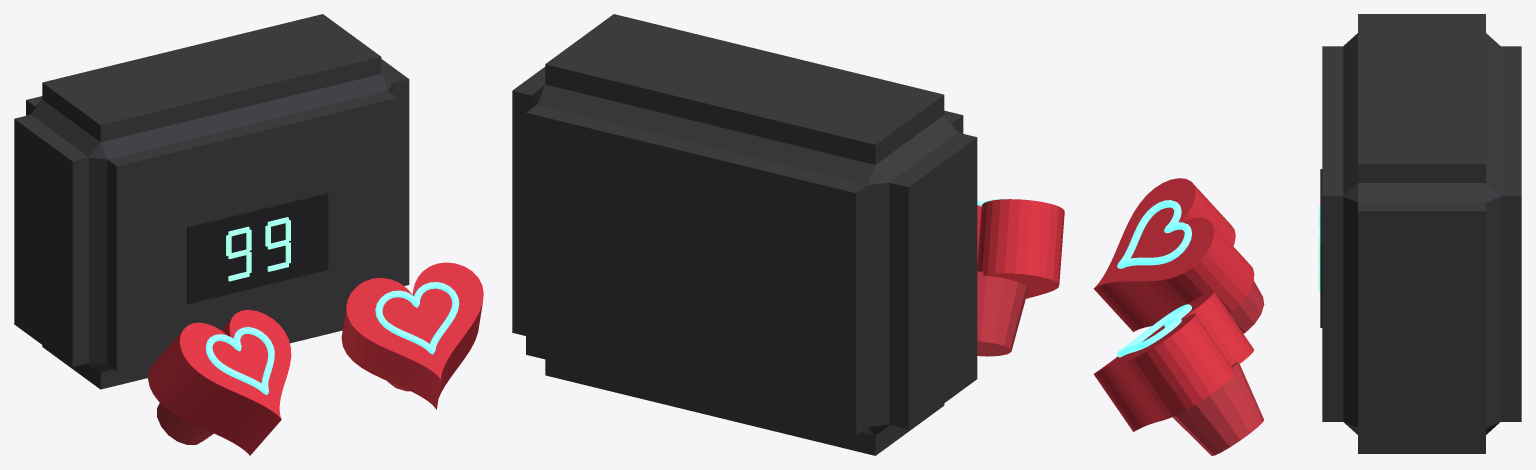
Rendered from HeartEarbudsRed.glb.
3 renders of one model, left to right at view 1: azimuth 30°, elevation 25°; view 2: azimuth 150°, elevation 25°; view 3: azimuth 270°, elevation 25°, orthographic. The views are drawn at different scales.
Parts seen in each view (by area): view 1: CaseBody, Earbud_L_Shell, Earbud_R_Shell, CaseScreen, Earbud_R_Ring, Earbud_L_Ring, Earbud_L_Tip; view 2: CaseBody, Earbud_L_Shell, Earbud_L_Tip; view 3: CaseBody, Earbud_L_Shell, Earbud_R_Shell, Earbud_R_Tip, Earbud_L_Ring, Earbud_R_Ring, Earbud_L_Tip, CaseScreen.
Boxes of the visible parts, <box> form: CaseBody: <box>14,14,409,389</box>; Earbud_L_Shell: <box>148,309,291,455</box>; Earbud_R_Shell: <box>341,262,483,409</box>; CaseScreen: <box>187,193,328,303</box>; Earbud_R_Ring: <box>375,282,459,354</box>; Earbud_L_Ring: <box>205,327,274,394</box>; Earbud_L_Tip: <box>157,403,213,444</box>; CaseBody: <box>512,14,977,455</box>; Earbud_L_Shell: <box>977,199,1064,298</box>; Earbud_L_Tip: <box>977,271,1027,356</box>; CaseBody: <box>1322,14,1521,453</box>; Earbud_L_Shell: <box>1093,178,1254,331</box>; Earbud_R_Shell: <box>1093,291,1253,431</box>; Earbud_R_Tip: <box>1172,361,1263,455</box>; Earbud_L_Ring: <box>1117,200,1191,268</box>; Earbud_R_Ring: <box>1117,304,1191,357</box>; Earbud_L_Tip: <box>1229,281,1264,333</box>; CaseScreen: <box>1320,169,1322,327</box>.
Bounding box in the file's own units: 0.06 × 0.0474 × 0.0602.
